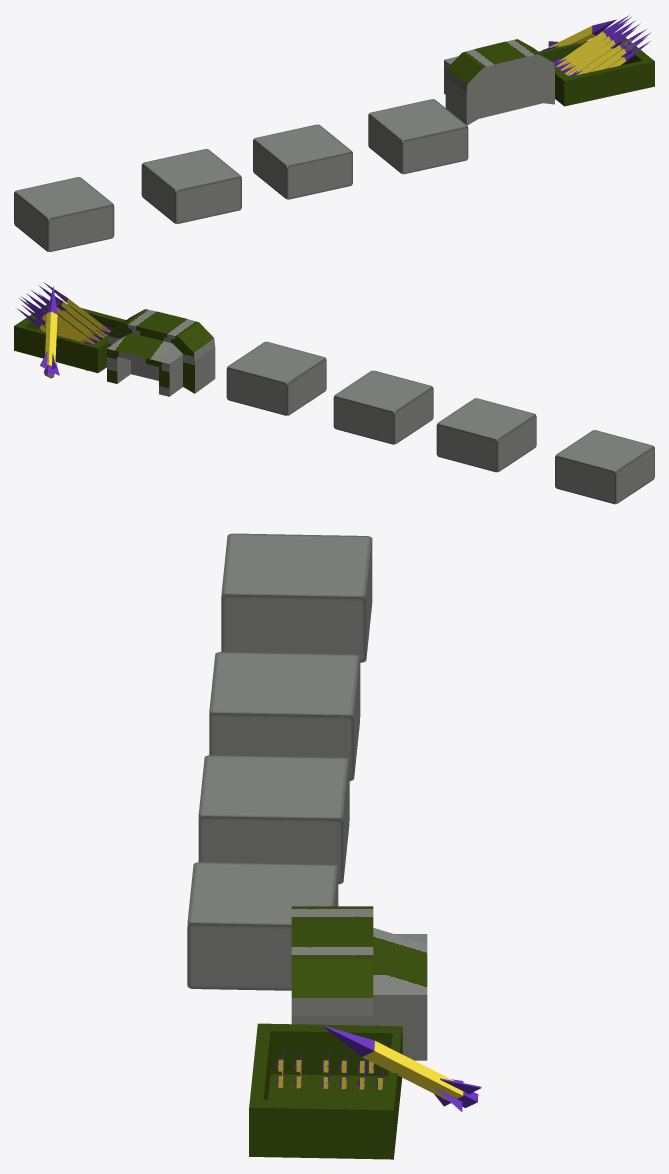
File: Shop2 (1).fbx
The picture shows the model from 3 angles, top to bottom: view 1: azimuth 30°, elevation 25°; view 2: azimuth 150°, elevation 25°; view 3: azimuth 270°, elevation 25°; orthographic projection. The views are drawn at different scales.
Parts seen in each view (by area): view 1: cuboid, cuboid_15, cuboid_17, cuboid_18, cuboid_16, cuboid_1, cuboid_14, cuboid_11, cuboid_10, cuboid_9, cuboid_12; view 2: cuboid, cuboid_16, cuboid_15, cuboid_17, cuboid_18, cuboid_1, cuboid_14, cuboid_12, cuboid_13, cuboid_11; view 3: cuboid_18, cuboid_1, cuboid_16, cuboid, cuboid_17, cuboid_15, cuboid_14.
Boxes of the visible parts, bbox=[...] form: cuboid: bbox=[444, 39, 554, 125]; cuboid_15: bbox=[368, 99, 468, 174]; cuboid_17: bbox=[141, 149, 241, 223]; cuboid_18: bbox=[14, 177, 114, 251]; cuboid_16: bbox=[253, 124, 352, 199]; cuboid_1: bbox=[539, 34, 654, 106]; cuboid_14: bbox=[542, 19, 616, 50]; cuboid_11: bbox=[562, 23, 640, 75]; cuboid_10: bbox=[557, 20, 635, 70]; cuboid_9: bbox=[554, 17, 631, 67]; cuboid_12: bbox=[568, 29, 646, 76]; cuboid: bbox=[107, 309, 215, 396]; cuboid_16: bbox=[333, 370, 433, 444]; cuboid_15: bbox=[226, 341, 326, 415]; cuboid_17: bbox=[436, 398, 536, 472]; cuboid_18: bbox=[555, 430, 654, 504]; cuboid_1: bbox=[14, 302, 125, 373]; cuboid_14: bbox=[40, 286, 59, 378]; cuboid_12: bbox=[38, 285, 109, 338]; cuboid_13: bbox=[43, 282, 113, 332]; cuboid_11: bbox=[31, 290, 102, 341]; cuboid_18: bbox=[221, 533, 372, 662]; cuboid_1: bbox=[249, 1023, 402, 1159]; cuboid_16: bbox=[198, 755, 349, 884]; cuboid: bbox=[291, 906, 427, 1060]; cuboid_17: bbox=[209, 652, 360, 780]; cuboid_15: bbox=[187, 862, 338, 990]; cuboid_14: bbox=[321, 1025, 481, 1111].
Bounding box in the file's own units: 961 × 105 × 203.
4 materials, 4 textured.
